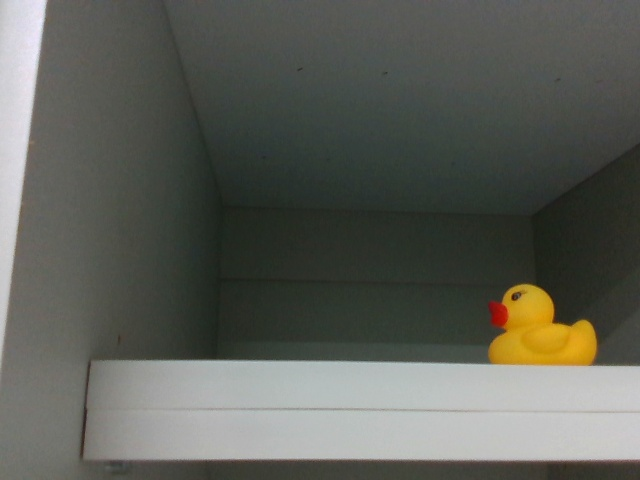duck: (484, 278, 601, 364)
